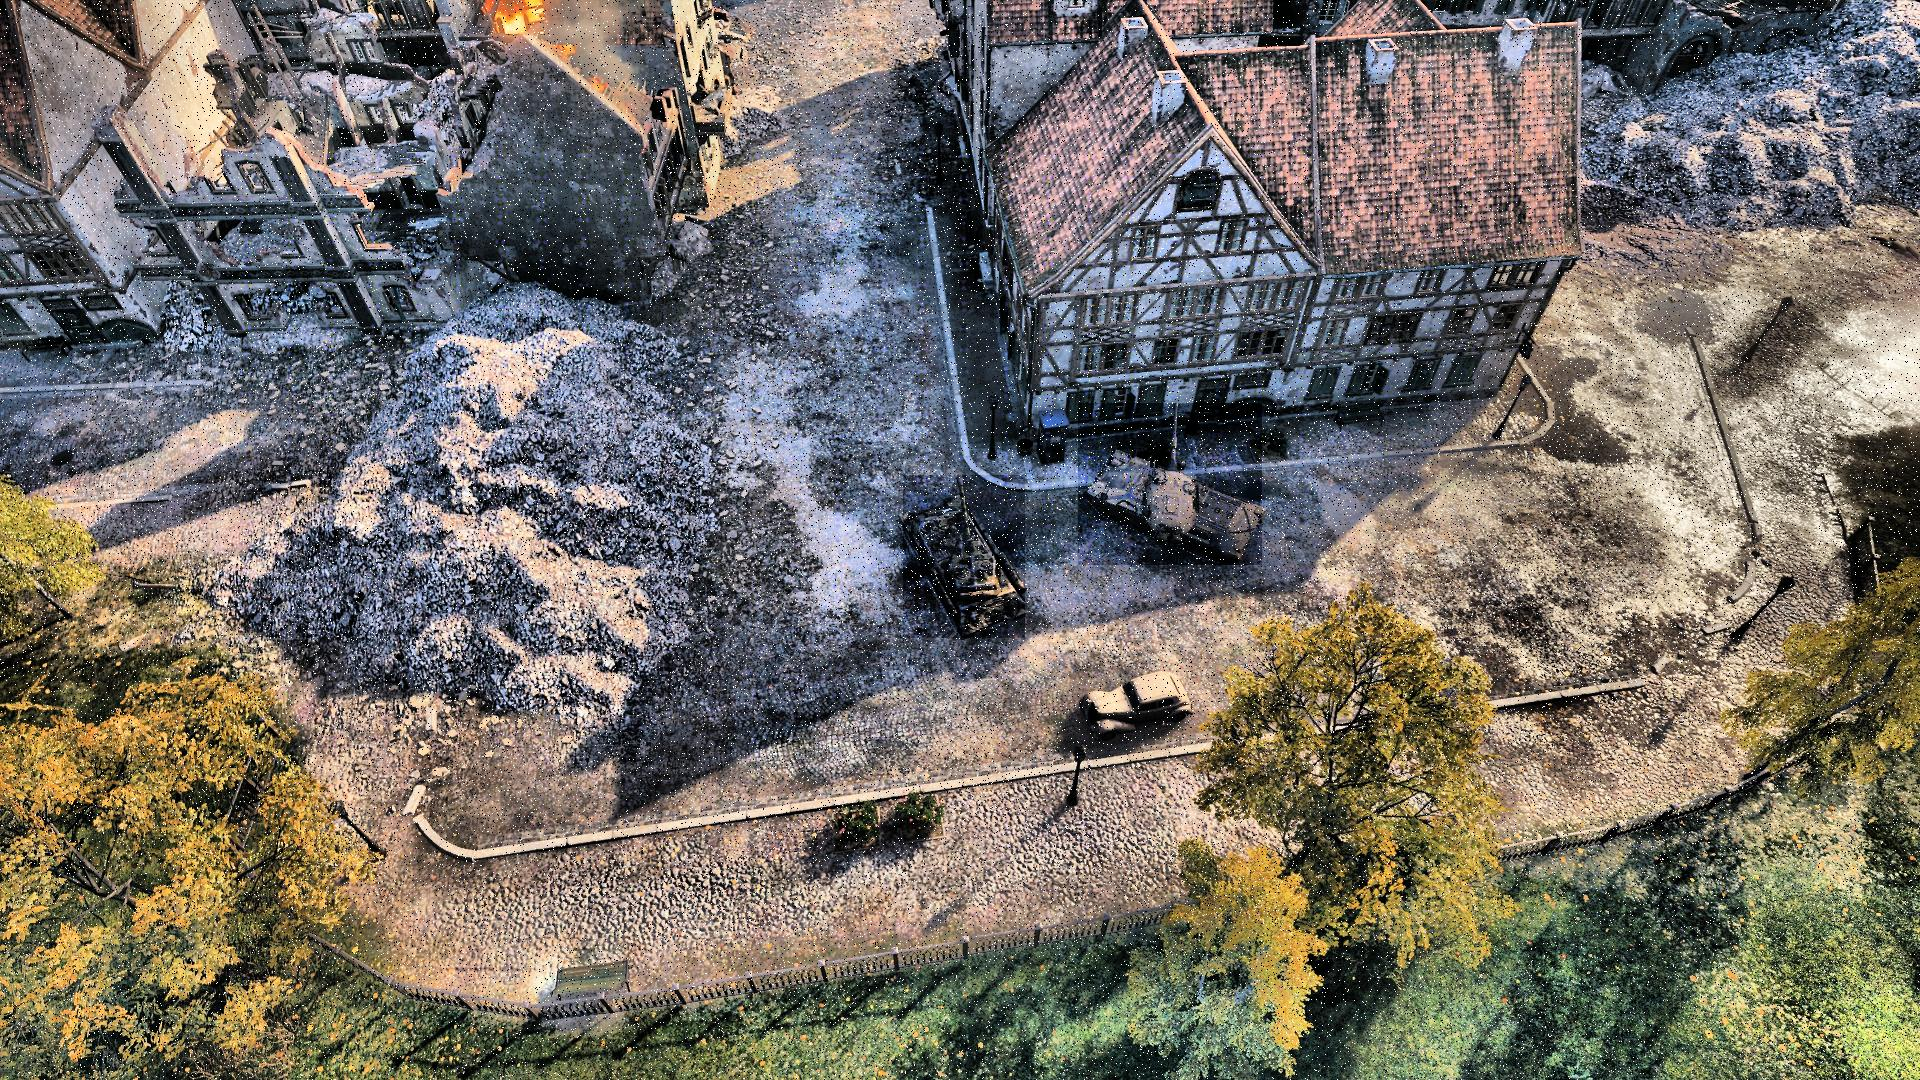military-vehicle: (1079, 404, 1262, 566), (903, 475, 1025, 638)
